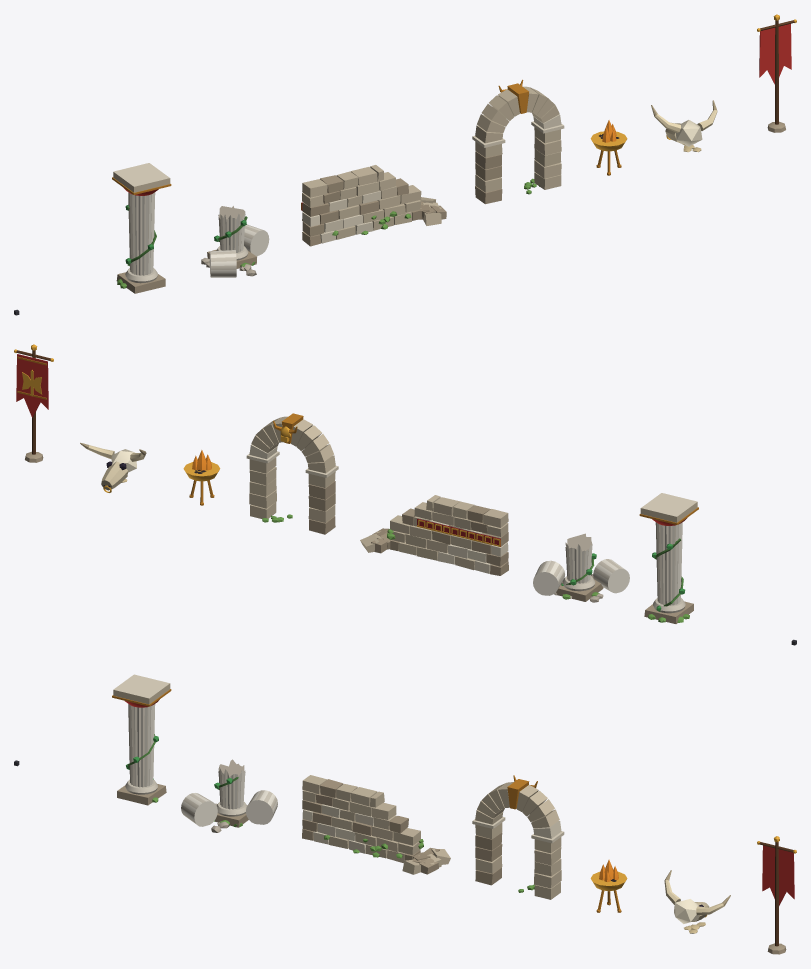
Rendered from Minotauro.fbx.
3 renders of one model, top to bottom at view 1: azimuth 30°, elevation 25°; view 2: azimuth 150°, elevation 25°; view 3: azimuth 330°, elevation 25°, orthographic.
Visible parts, largest first — view 1: Muro, Arco, Columna, ColumnaRota, Estandarte, CraneoToro, Brasero; view 2: Muro, Arco, Columna, ColumnaRota, Estandarte, CraneoToro, Brasero; view 3: Muro, Arco, Columna, ColumnaRota, Estandarte, CraneoToro, Brasero.
Boxes of the visible parts, bbox=[...] form: Muro: bbox=[301, 165, 446, 246]; Arco: bbox=[472, 79, 564, 204]; Columna: bbox=[112, 163, 171, 293]; ColumnaRota: bbox=[201, 206, 269, 277]; Estandarte: bbox=[757, 14, 796, 132]; CraneoToro: bbox=[651, 100, 717, 152]; Brasero: bbox=[590, 131, 627, 175]; Muro: bbox=[360, 495, 508, 575]; Arco: bbox=[246, 413, 338, 534]; Columna: bbox=[639, 493, 698, 623]; ColumnaRota: bbox=[533, 533, 629, 602]; Estandarte: bbox=[14, 344, 53, 462]; CraneoToro: bbox=[80, 442, 146, 492]; Brasero: bbox=[183, 462, 220, 505]; Muro: bbox=[302, 775, 450, 874]; Arco: bbox=[472, 775, 564, 899]; Columna: bbox=[112, 674, 171, 805]; ColumnaRota: bbox=[181, 759, 277, 832]; Estandarte: bbox=[757, 836, 796, 954]; CraneoToro: bbox=[664, 870, 730, 933]; Brasero: bbox=[590, 871, 627, 912].
Size of the model in its own units: 225 by 31.5 by 19.3.
